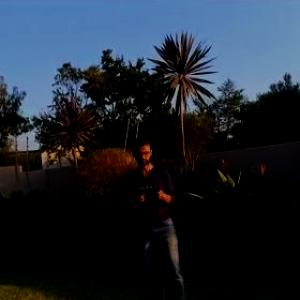follow: (122, 133, 192, 299)
